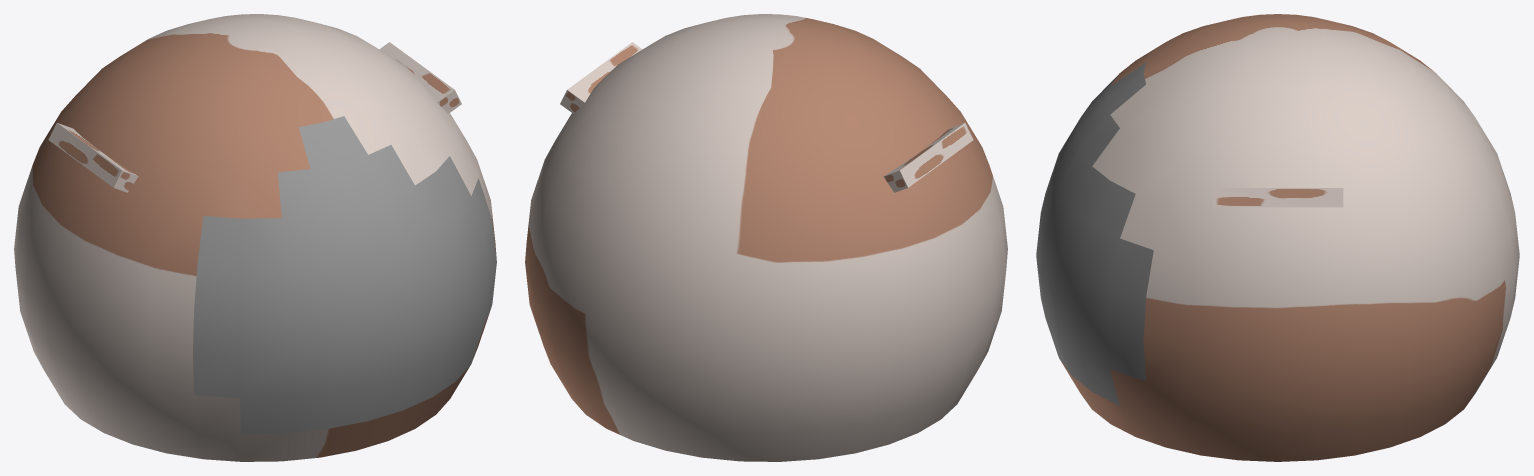
The model's file is mode_spacesuit.FBX.
The picture shows the model from 3 angles, left to right: view 1: azimuth 30°, elevation 25°; view 2: azimuth 150°, elevation 25°; view 3: azimuth 270°, elevation 25°; orthographic projection.
Visible parts, largest first — view 1: Sphere003, Object; view 2: Sphere003; view 3: Sphere003, Object.
Boxes of the visible parts, <box> form: Sphere003: <box>14,14,496,461</box>; Object: <box>193,116,496,433</box>; Sphere003: <box>525,14,1007,461</box>; Sphere003: <box>1060,14,1519,461</box>; Object: <box>1036,62,1153,405</box>.
Bounding box in the file's own units: 370 × 287 × 370.
2 materials, 1 textured.
